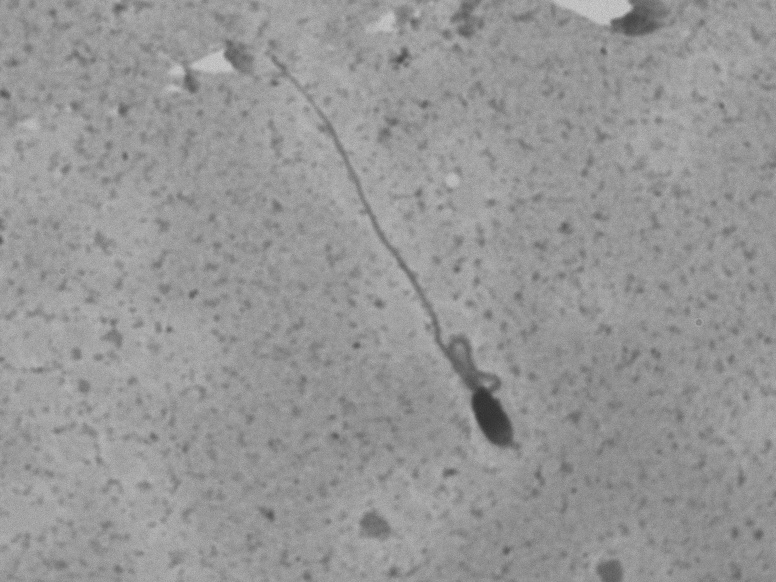Abnormal: (259, 51, 563, 493)
